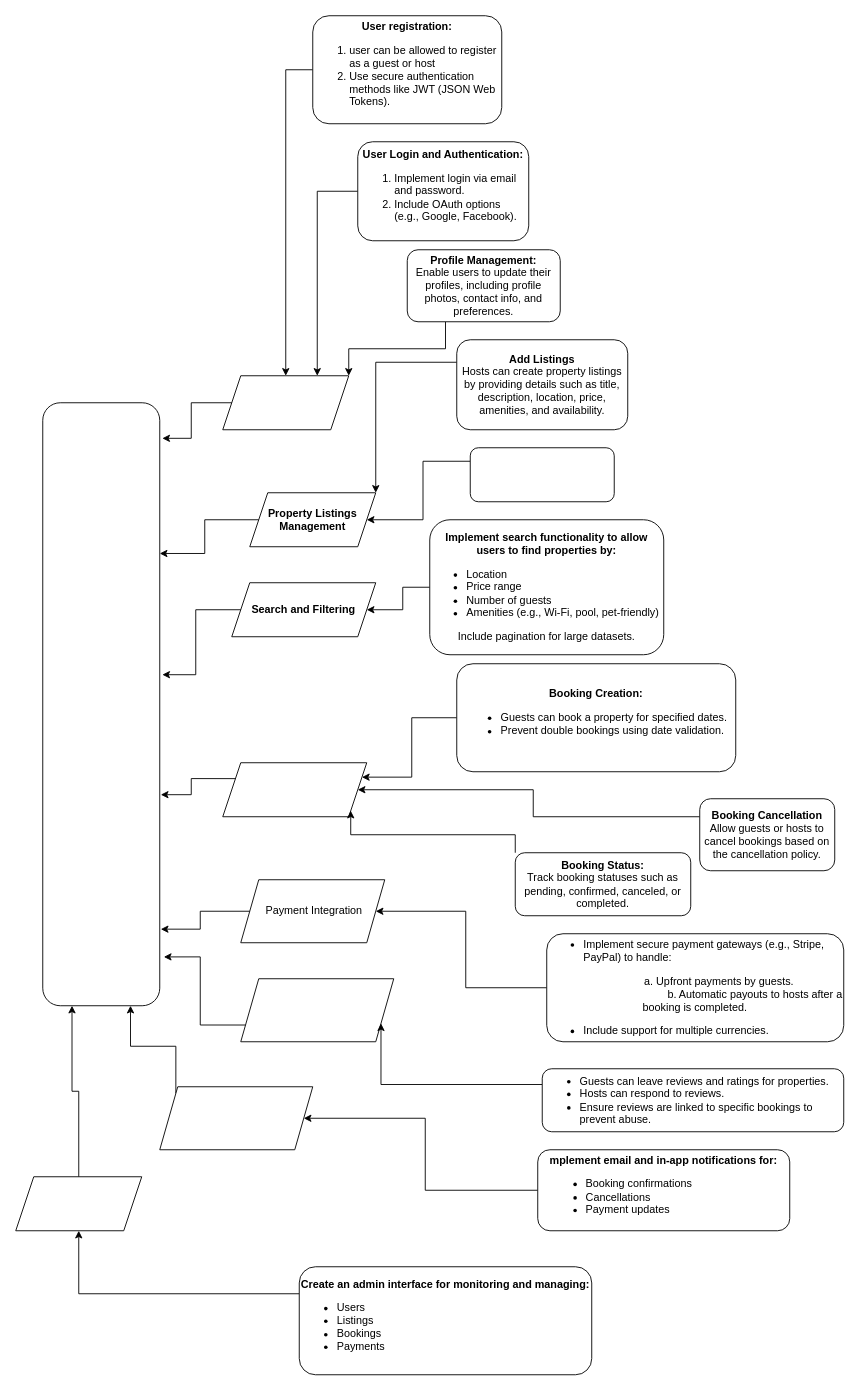
Image size: 860x1391. Some labels were removed from this diagram. Each missing label, with the centre of its shape:
Admin Dashboard: (x=78, y=1203)
Airbnb Clone Backend Features: (x=101, y=704)
Booking Management: (x=294, y=789)
Edit/Delete Listings Hosts can update or remove their property listings.: (x=541, y=474)
Notifications System: (x=236, y=1118)
Reviews and Ratings: (x=317, y=1010)
User Management: (x=285, y=402)
